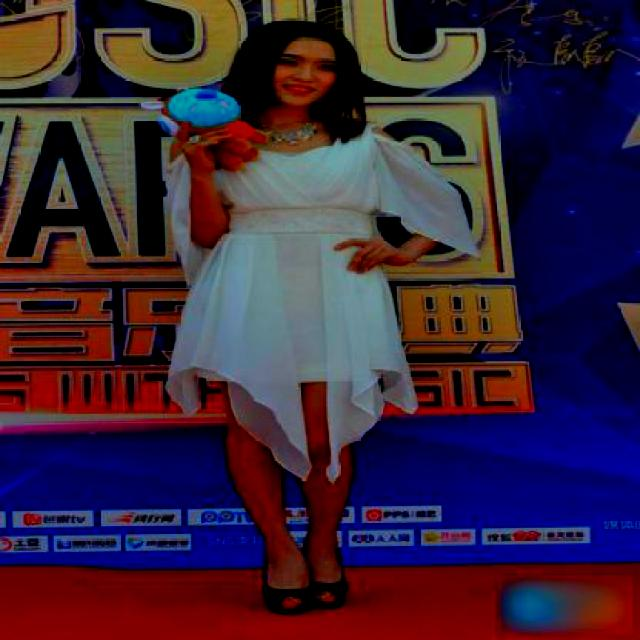Person: (167, 12, 410, 612)
